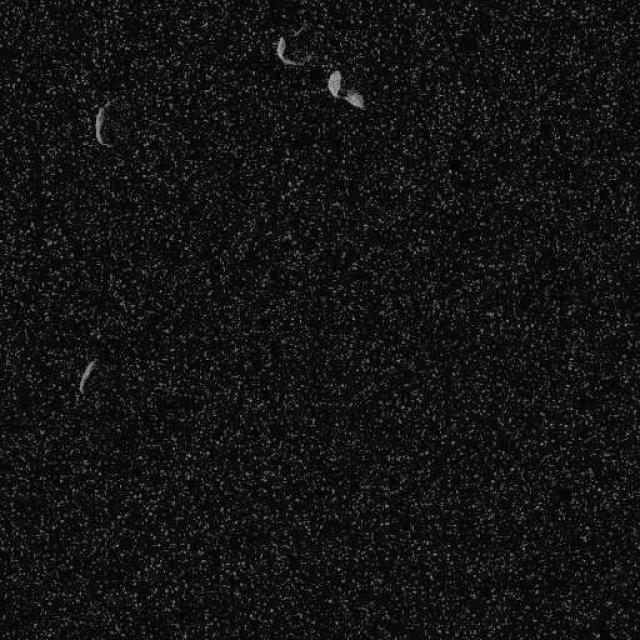D2: (92, 98, 128, 148), (325, 68, 365, 110), (274, 35, 311, 66), (76, 358, 98, 393)
